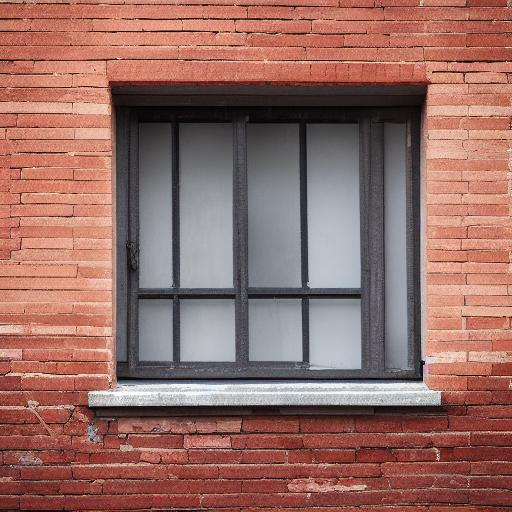Window: (88, 80, 444, 410)
